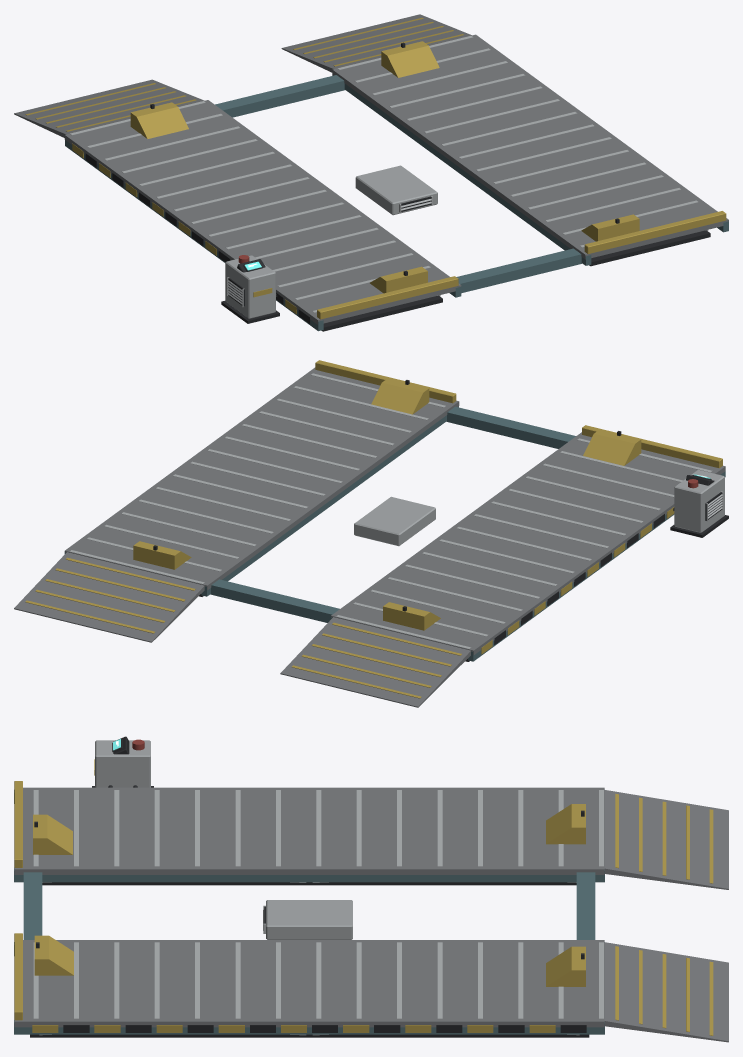
File: astro_rover_lift.fbx
3 renders of one model, top to bottom at view 1: azimuth 30°, elevation 25°; view 2: azimuth 150°, elevation 25°; view 3: azimuth 270°, elevation 25°, orthographic. The views are drawn at different scales.
Parts seen in each view (by area): view 1: RoverLift_Body; view 2: RoverLift_Body; view 3: RoverLift_Body.
Part boxes in pixels (x1=…): RoverLift_Body: x1=14, y1=14, x2=728, y2=331; RoverLift_Body: x1=14, y1=360, x2=728, y2=707; RoverLift_Body: x1=14, y1=736, x2=728, y2=1042.
Size of the model in its own units: 971 by 100 by 1150.
